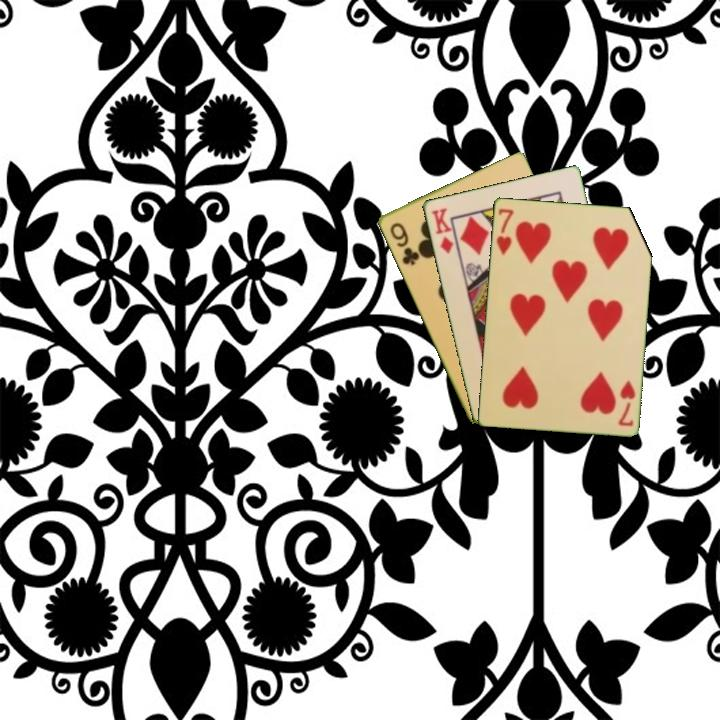7h: (492, 205, 516, 258), (614, 376, 638, 429)
9c: (386, 219, 422, 268)
Kd: (428, 204, 456, 257)
